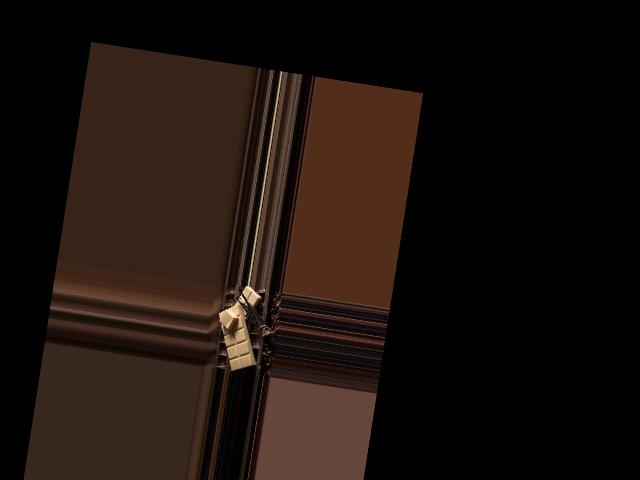chocolate: (211, 299, 263, 373)
